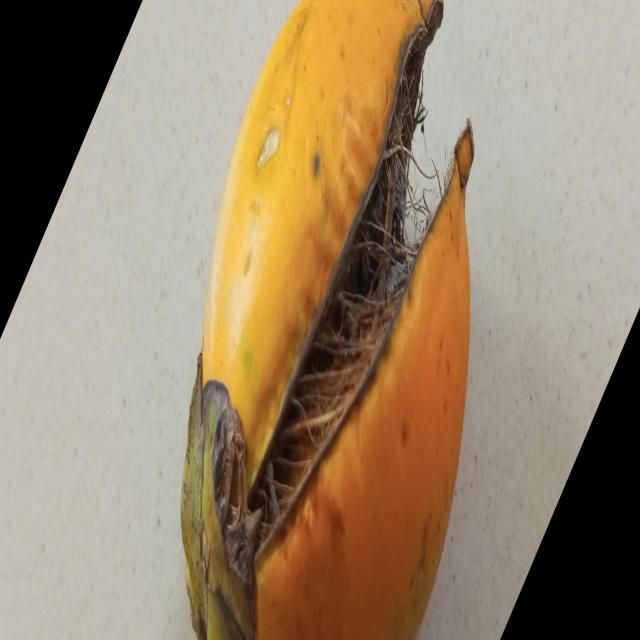damaged: (181, 0, 474, 640)
